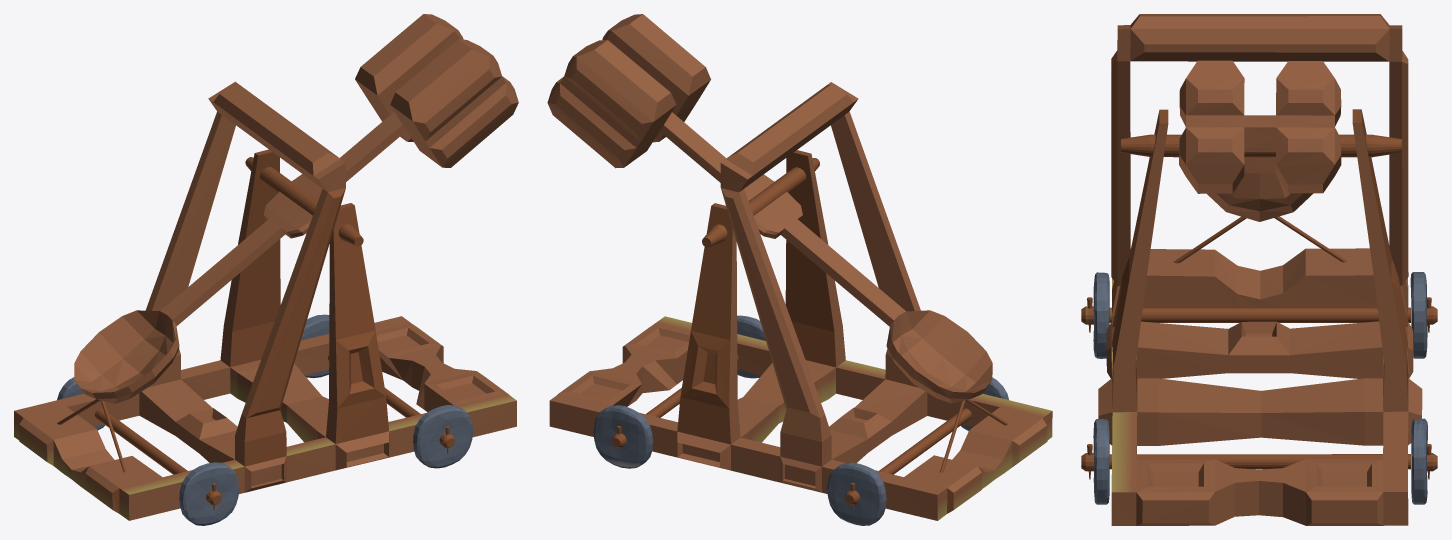
The model's file is Trebuchet V1 FBX Model.fbx.
3 renders of one model, left to right at view 1: azimuth 30°, elevation 25°; view 2: azimuth 150°, elevation 25°; view 3: azimuth 270°, elevation 25°, orthographic. The views are drawn at different scales.
Visible parts, largest first — view 1: Menjenigh; view 2: Menjenigh; view 3: Menjenigh.
Boxes of the visible parts, left/top/right/bottom form: Menjenigh: left=14, top=14, right=518, bottom=525; Menjenigh: left=547, top=14, right=1052, bottom=525; Menjenigh: left=1081, top=14, right=1437, bottom=525.
Bounding box in the file's own units: 71154 × 59745 × 40122.
Materials: 1 (1 with a texture image).
